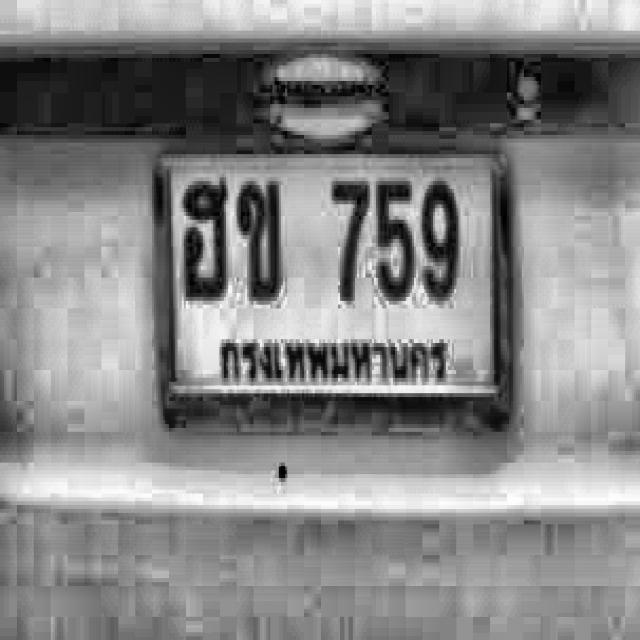license-plate: (143, 104, 532, 488)
